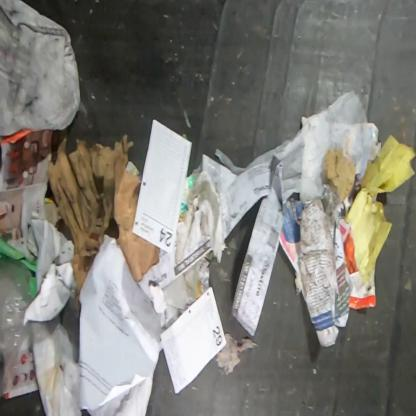soft_plastic: (0, 258, 35, 396)
